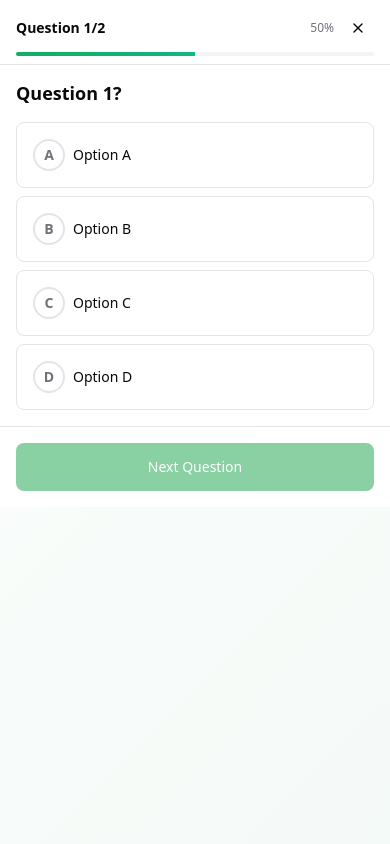
Test case: QuizDisplay › calculates score correctly
// Answer first question correctly (Option B, index 1)
Step 1. Click the text "Option B" → coordinates (102, 229), box [73,219,131,238]
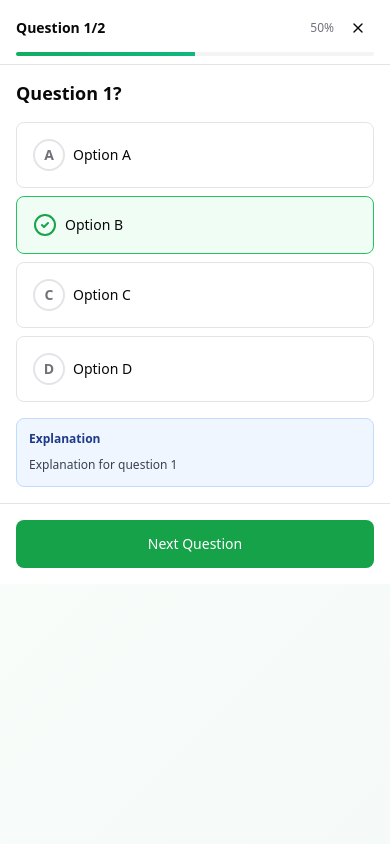
Step 2. Click the button "Next Question" → coordinates (195, 544), box [16,520,374,568]
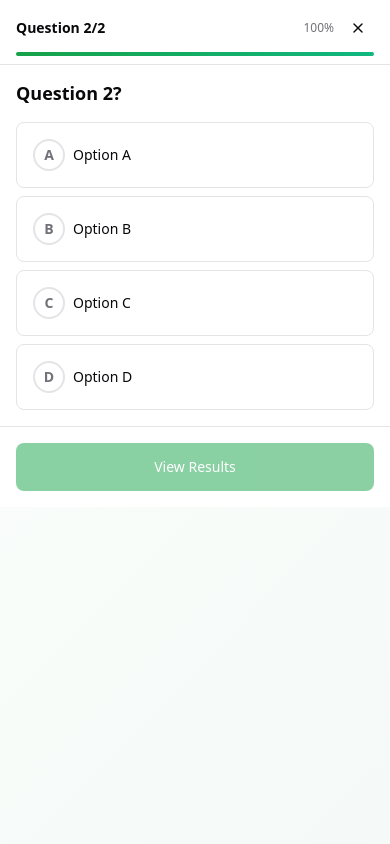
// Answer second question incorrectly (Option A, index 0)
Step 3. Click the text "Option A" → coordinates (102, 155), box [73,145,131,164]
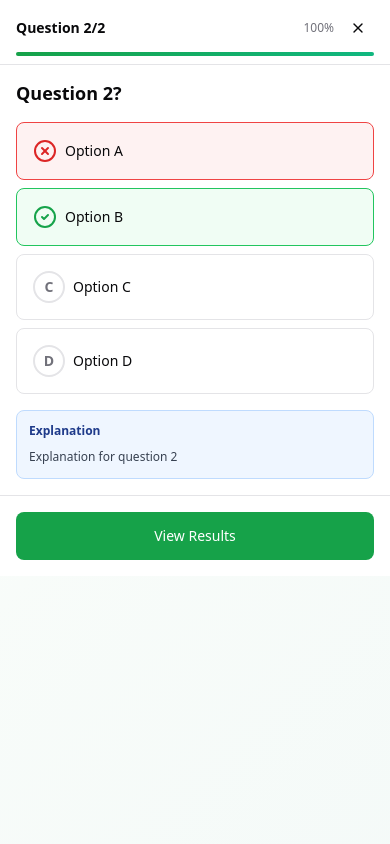
Step 4. Click the button "View Results" → coordinates (195, 536), box [16,512,374,560]
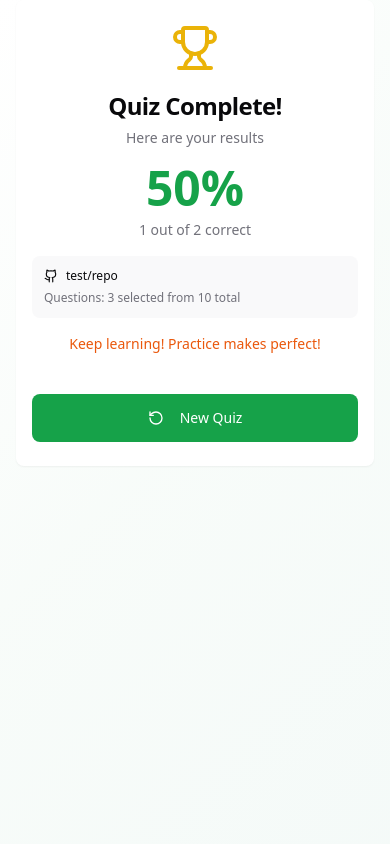
Check: the text "50%" is shown, box [146,155,244,220]
Check: the text "1 out of 2 correct" is shown, box [139,220,251,239]
